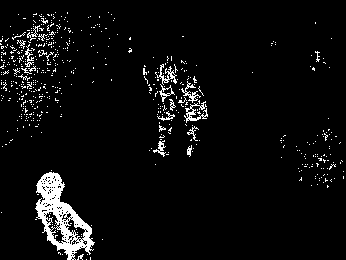person: (34, 171, 95, 260), (180, 76, 206, 157), (154, 82, 175, 157), (141, 59, 156, 96), (163, 57, 176, 89)
